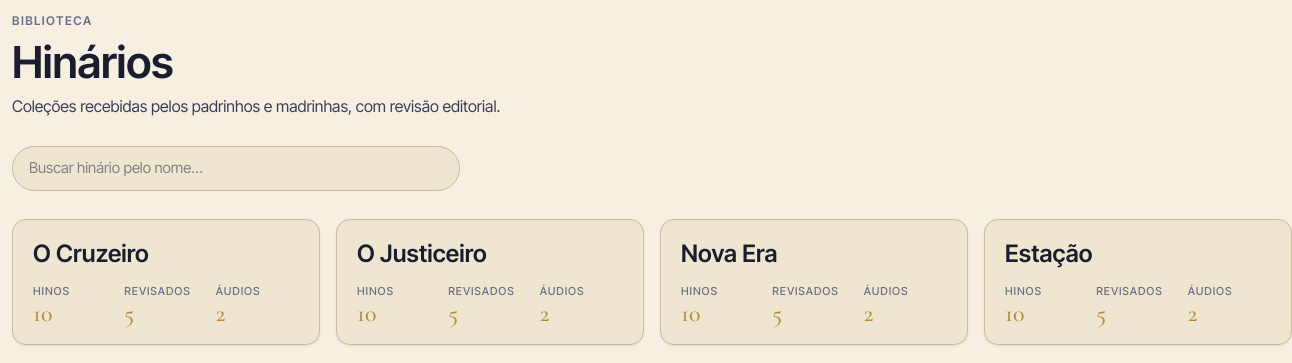
Test: +page.svelte (lista de hinários) › filtra cards por nome conforme o usuário digita (case-insensitive)
The width and height of the screenshot is (1292, 363).
Type "JUSTI" into the search field with test id "hymnbook-search".
click(236, 169); type("JUSTI")  # box [12, 146, 460, 191]
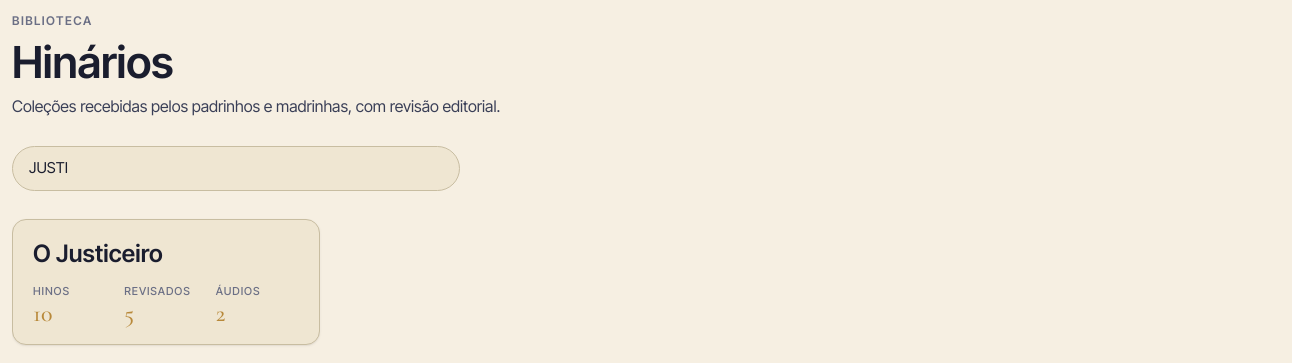
Check: the link with test id "hymnbook-card" shows "Justiceiro", box [12, 219, 320, 345]
Check: the number of links with test id "hymnbook-card" is 1, box [12, 219, 320, 345]
